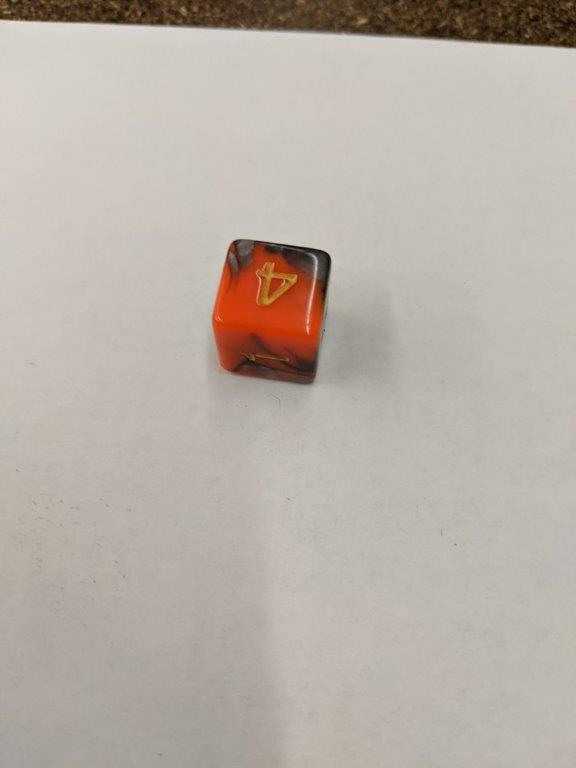d6-4: (207, 236, 333, 388)
